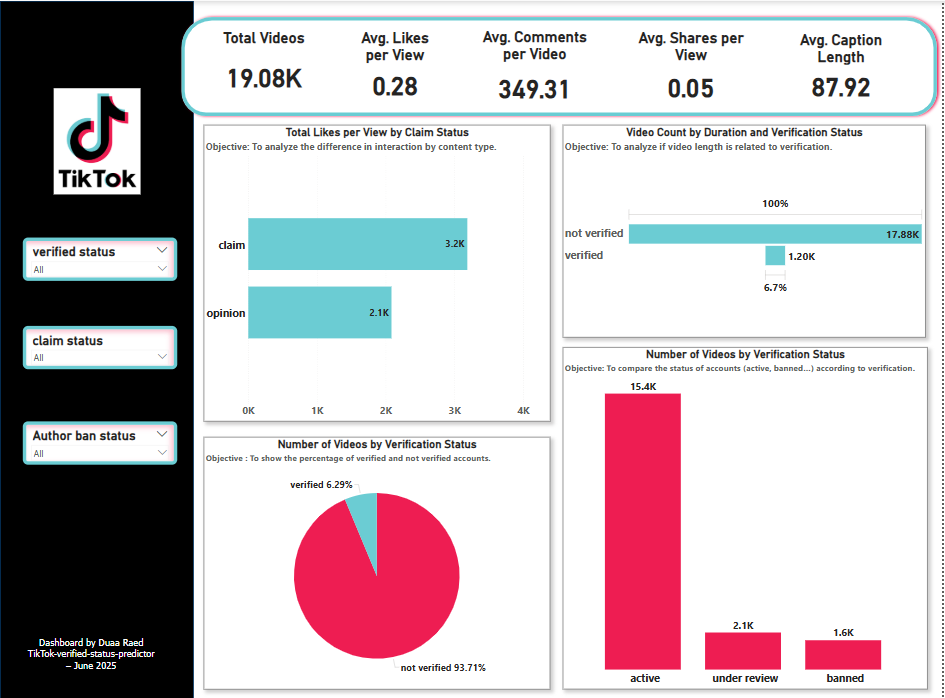

The dashboard page shown, as its layout file describes it:
{"tool":"powerbi","page":{"name":"Page 1","canvas":[2700,1900],"ordinal":0},"visuals":[{"type":"shape","box":[0,0,555,1901.9],"z":0},{"type":"pieChart","title":"Number of Videos by Verification Status","fields":{"Y":["CountNonNull(tiktok_dataset_merged_all.video_id)"],"Category":["tiktok_dataset_merged_all.verified_status"]},"box":[582.2,1249.8,950.9,621],"z":1000},{"type":"columnChart","title":"Number of Videos by Verification Status","fields":{"Category":["tiktok_dataset_merged_all.author_ban_status"],"Y":["CountNonNull(tiktok_dataset_merged_all.verified_status)"]},"box":[1614.7,1020.8,1044.1,850],"z":2000},{"type":"clusteredBarChart","title":" Total Likes per View by Claim Status","fields":{"Category":["tiktok_dataset_merged_all.claim_status"],"Y":["Sum(tiktok_dataset_merged_all.likes_per_view)"]},"box":[582.2,357.1,950.9,850],"z":3000},{"type":"funnel","title":"Video Count by Duration and Verification Status","fields":{"Category":["tiktok_dataset_merged_all.verified_status"],"Y":["CountNonNull(tiktok_dataset_merged_all.video_duration_sec)"]},"box":[1614.7,388.1,1040.2,578.3],"z":4000},{"type":"shape","box":[465.8,34.9,2193,310.5],"z":5000},{"type":"image","box":[132,81.5,295,314.4],"z":6000},{"type":"card","title":"Total Videos","fields":{"Values":["CountNonNull(tiktok_dataset_merged_all.video_id)"]},"box":[617.1,81.5,279.5,209.6],"z":6001},{"type":"card","title":"Avg. Likes per View","fields":{"Values":["Avg(tiktok_dataset_merged_all.likes_per_view)"]},"box":[993.6,81.5,279.5,209.6],"z":6002},{"type":"card","title":"Avg. Caption Length","fields":{"Values":["Avg(tiktok_dataset_merged_all.text_length)"]},"box":[2270.6,85.4,279.5,205.7],"z":6003},{"type":"card","title":"Avg. Shares per View","fields":{"Values":["Avg(tiktok_dataset_merged_all.shares_per_view)"]},"box":[1820.4,81.5,318.3,221.2],"z":6004},{"type":"card","title":"Avg. Comments per Video","fields":{"Values":["Avg(tiktok_dataset_merged_all.video_comment_count)"]},"box":[1362.4,77.6,345.4,232.9],"z":6005},{"type":"slicer","fields":{"Values":["tiktok_dataset_merged_all.author_ban_status"]},"box":[34.9,1447.8,442.5,124.2],"z":6006},{"type":"slicer","fields":{"Values":["tiktok_dataset_merged_all.verified_status"]},"box":[34.9,1051.9,442.5,124.2],"z":6007},{"type":"slicer","fields":{"Values":["tiktok_dataset_merged_all.claim_status"]},"box":[34.9,1249.8,442.5,124.2],"z":6008},{"type":"textbox","box":[34.9,524,469.6,298.9],"z":6009}]}

Visuals, with their boxes in screenshot pixels (x1, y1, x2, y2):
shape: pyautogui.locateOnScreen(0, 5, 189, 686)
"Number of Videos by Verification Status" pieChart: pyautogui.locateOnScreen(199, 452, 539, 674)
"Number of Videos by Verification Status" columnChart: pyautogui.locateOnScreen(568, 370, 942, 674)
" Total Likes per View by Claim Status" clusteredBarChart: pyautogui.locateOnScreen(199, 133, 539, 437)
"Video Count by Duration and Verification Status" funnel: pyautogui.locateOnScreen(568, 144, 940, 351)
shape: pyautogui.locateOnScreen(157, 17, 942, 129)
image: pyautogui.locateOnScreen(37, 34, 143, 147)
"Total Videos" card: pyautogui.locateOnScreen(211, 34, 311, 109)
"Avg. Likes per View" card: pyautogui.locateOnScreen(346, 34, 446, 109)
"Avg. Caption Length" card: pyautogui.locateOnScreen(803, 35, 903, 109)
"Avg. Shares per View" card: pyautogui.locateOnScreen(642, 34, 755, 113)
"Avg. Comments per Video" card: pyautogui.locateOnScreen(478, 33, 601, 116)
slicer - tiktok_dataset_merged_all.author_ban_status: pyautogui.locateOnScreen(3, 523, 161, 567)
slicer - tiktok_dataset_merged_all.verified_status: pyautogui.locateOnScreen(3, 381, 161, 426)
slicer - tiktok_dataset_merged_all.claim_status: pyautogui.locateOnScreen(3, 452, 161, 497)
textbox: pyautogui.locateOnScreen(3, 192, 171, 299)
